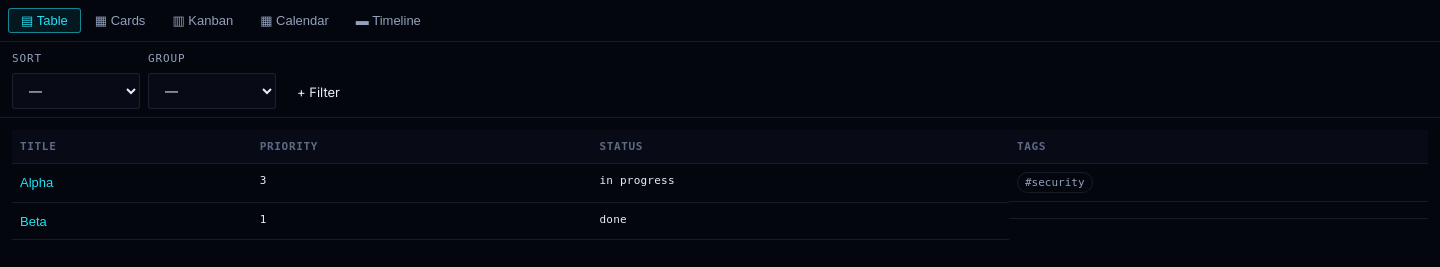
Test: ViewsStage › switches to cards without losing the data
expect the button "Alpha" is shown: met, box [20,175,53,190]
Click the tab "▦ Cards": click(120, 20) [82,8,158,33]
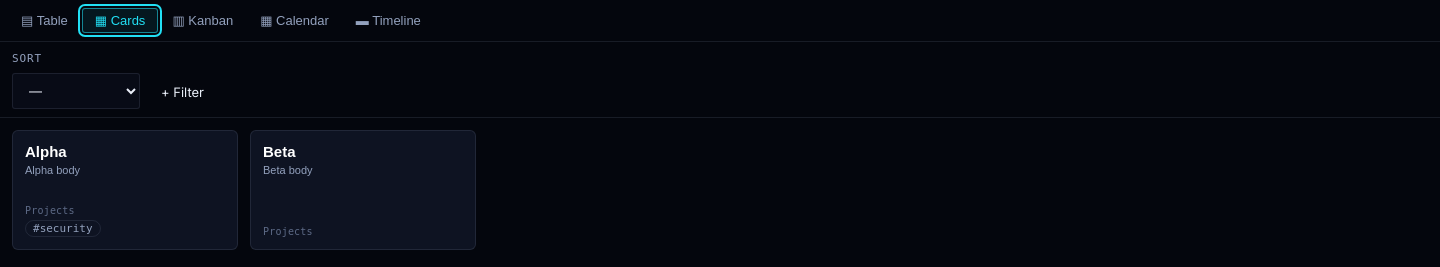
expect the element with class "cards" is shown: met, box [12,130,476,250]
expect the text "Alpha" is shown: met, box [25,143,67,160]
